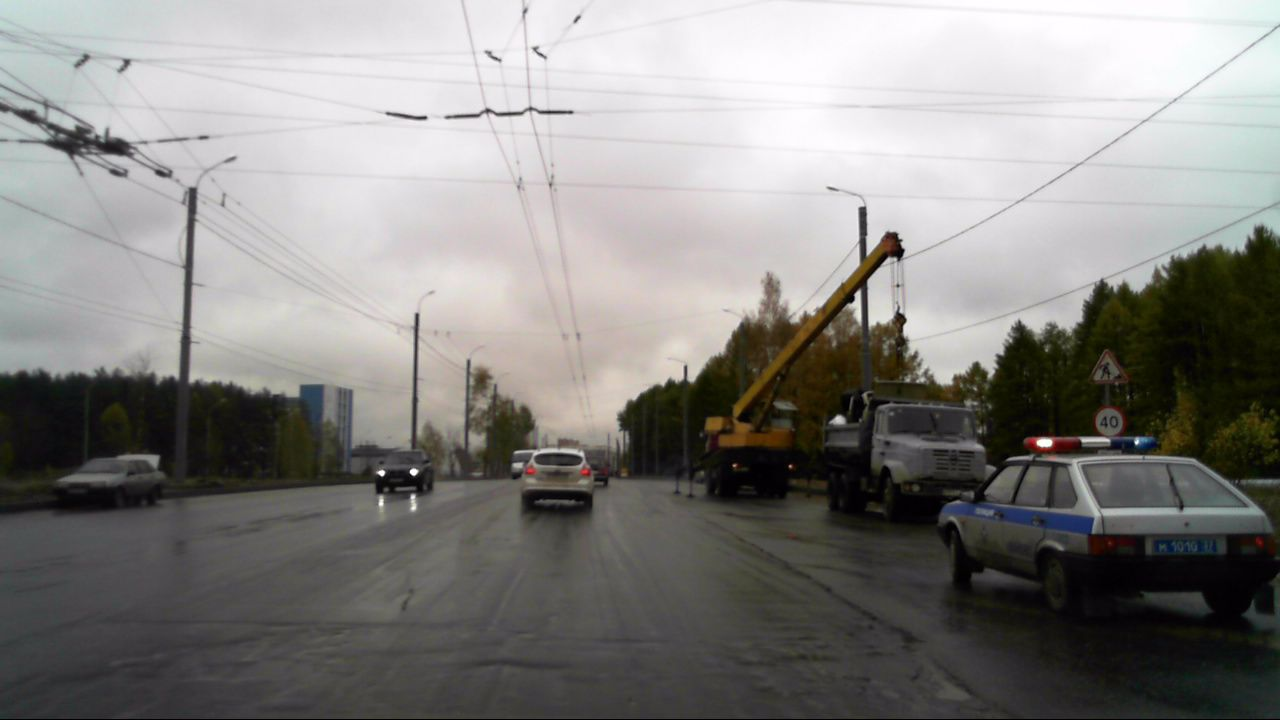speed_warning_40: (1091, 407, 1126, 439)
